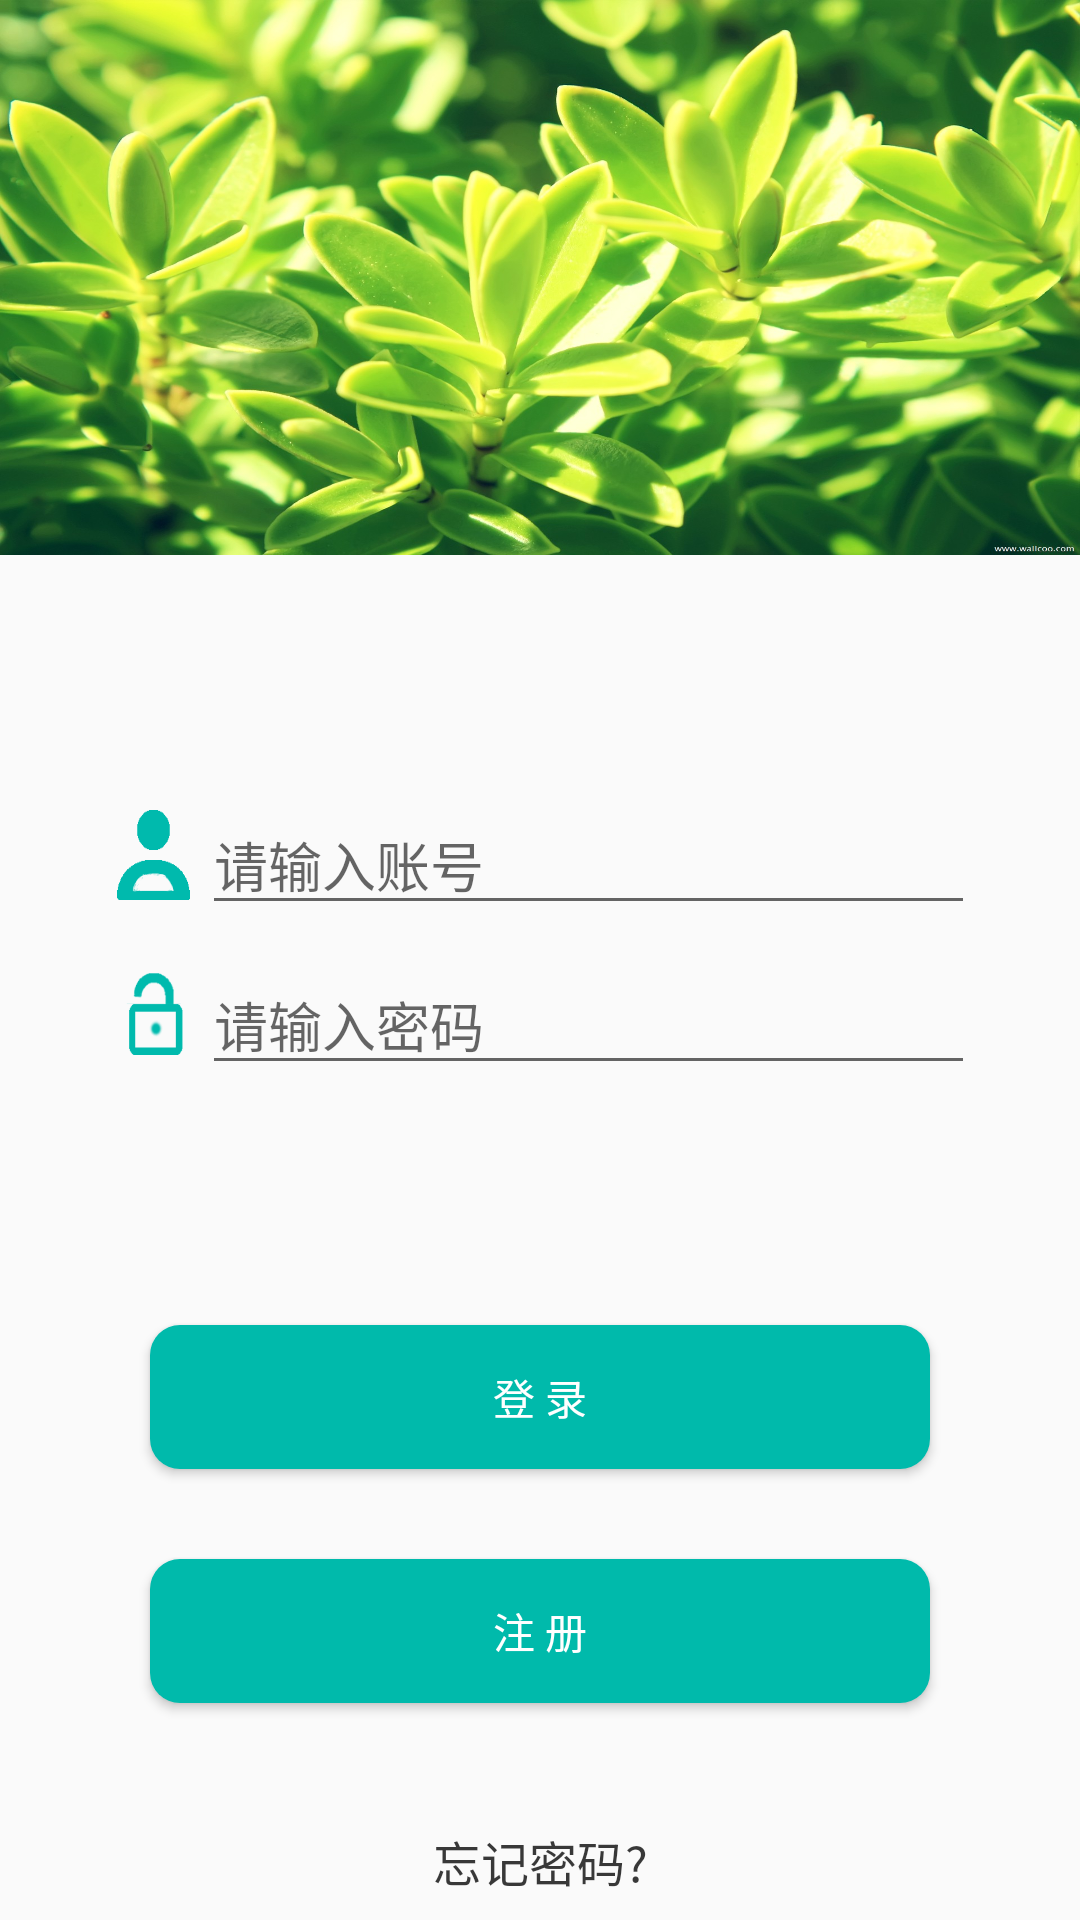

Where to tap for icons on this 1080 x 1920 app screen, as [x,y]:
unlockgreen: [156,1014]
usergreen: [153,855]
